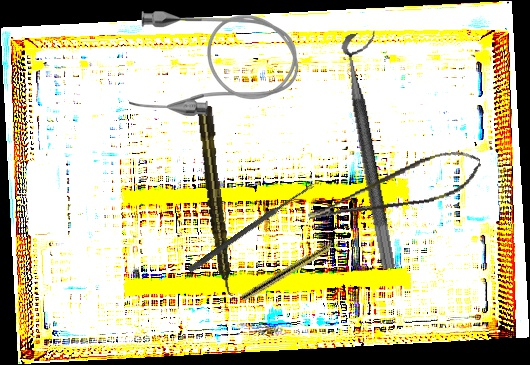Cannula: (129, 11, 299, 116)
Fixation Ring: (339, 30, 416, 270)
Handpiece: (195, 105, 237, 298), (240, 231, 351, 304)
Micro Scissor: (300, 144, 487, 227)
Surgical Spoon: (187, 181, 316, 274)
